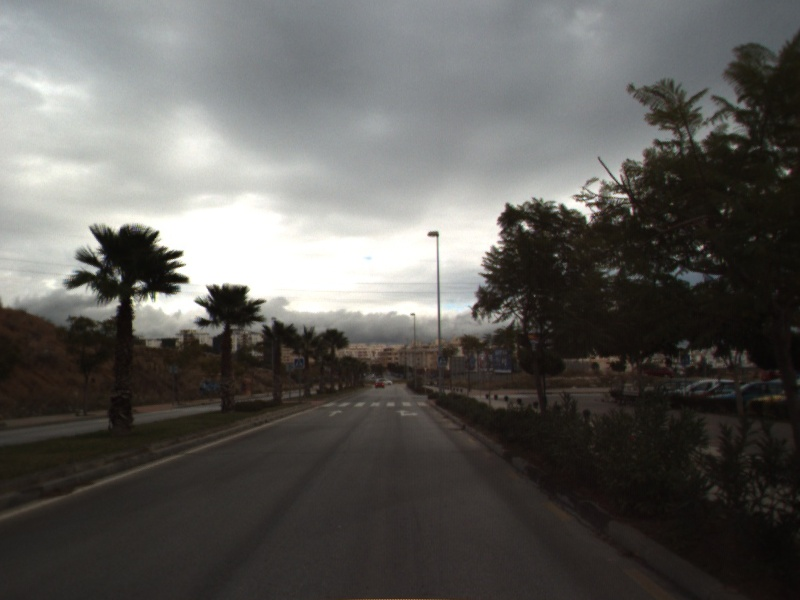STRAIGHT: (326, 407, 345, 419)
STRAIGHT_RIGHT: (393, 407, 421, 418)
